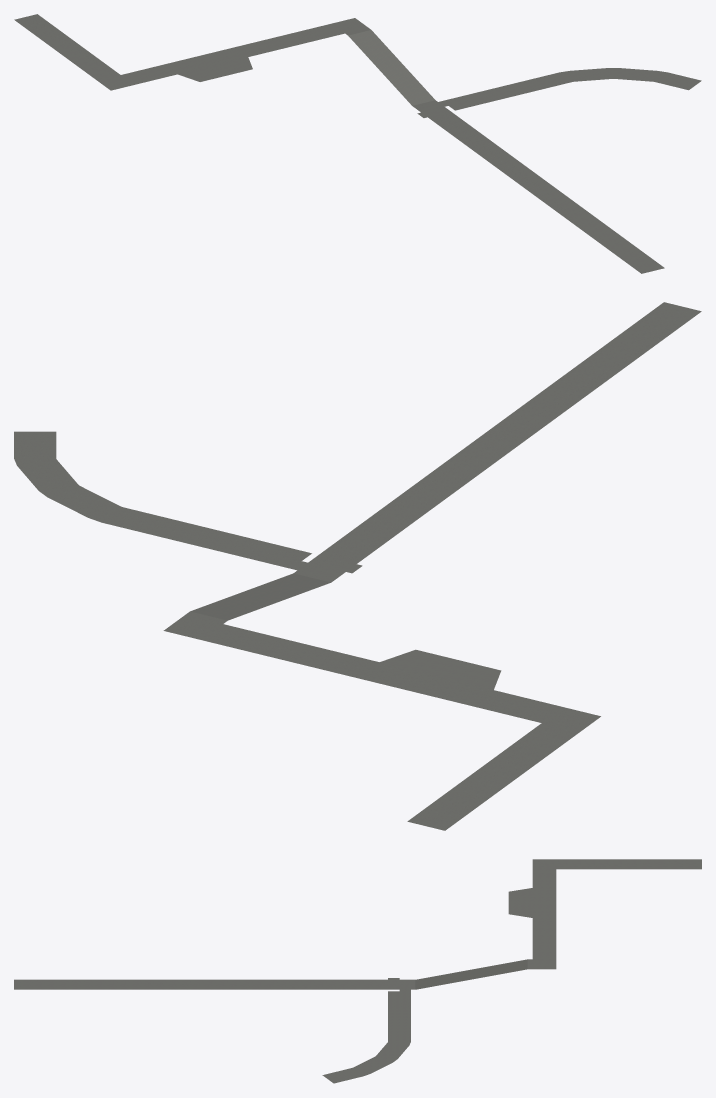
File: kd_stage_135d18_2_1.glb
The picture shows the model from 3 angles, top to bottom: view 1: azimuth 30°, elevation 25°; view 2: azimuth 150°, elevation 25°; view 3: azimuth 270°, elevation 25°; orthographic projection. The views are drawn at different scales.
Visible parts, largest first — view 1: kd_stage_135d18_2_1; view 2: kd_stage_135d18_2_1; view 3: kd_stage_135d18_2_1.
Part boxes in pixels (<box>): kd_stage_135d18_2_1: <box>14,14,701,273</box>; kd_stage_135d18_2_1: <box>14,302,701,830</box>; kd_stage_135d18_2_1: <box>14,859,701,1083</box>.
Bounding box in the file's own units: 60.99 × 2.85 × 87.02.
Materials: 1 (1 with a texture image).
